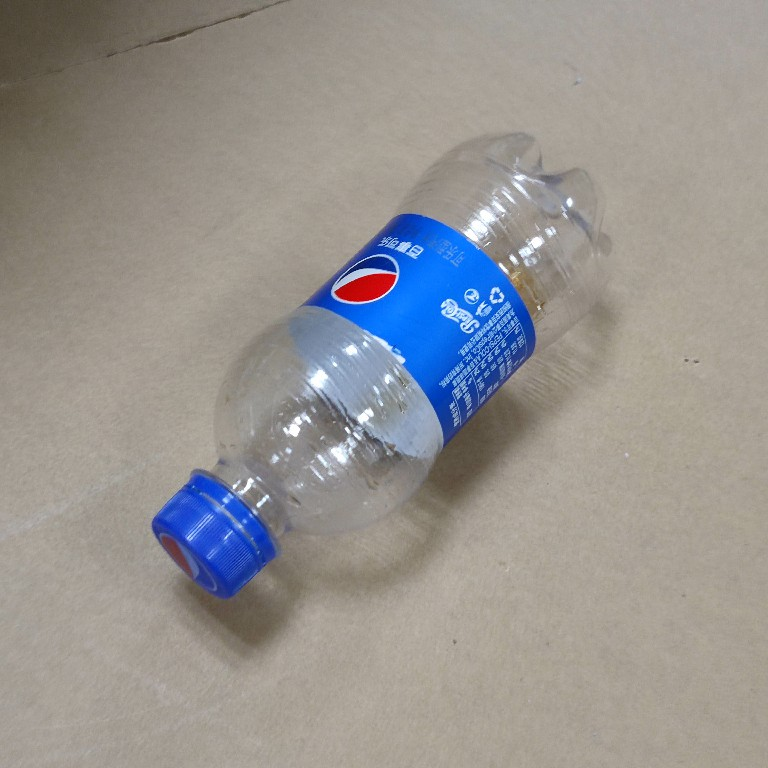bottle: (150, 128, 603, 603)
